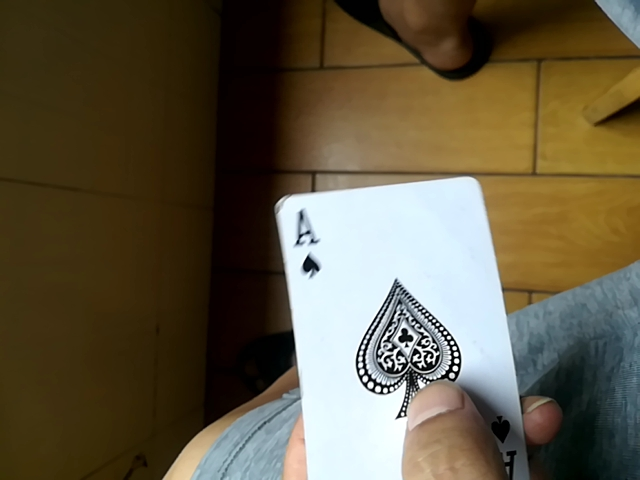ht a: (274, 171, 523, 478)
